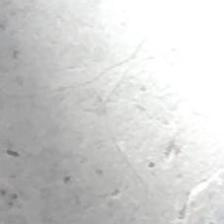Non_Crack: (21, 106, 207, 224)
